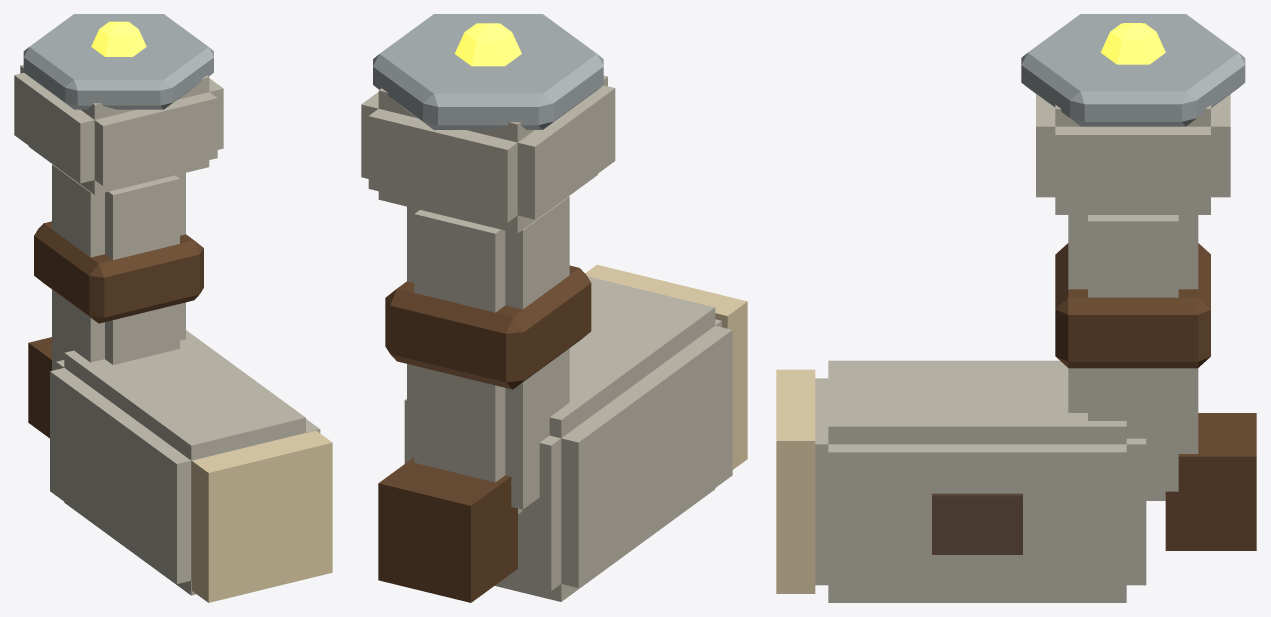
The model's file is arm_hammer.glb.
3 views of the same model, side by side, from view 1: azimuth 30°, elevation 25°; view 2: azimuth 150°, elevation 25°; view 3: azimuth 270°, elevation 25° (orthographic). The views are drawn at different scales.
Visible parts, largest first — view 1: arm_hammer; view 2: arm_hammer; view 3: arm_hammer.
Boxes of the visible parts, bbox=[...] form: arm_hammer: bbox=[14, 14, 332, 602]; arm_hammer: bbox=[361, 14, 747, 602]; arm_hammer: bbox=[776, 14, 1256, 602].
Bounding box in the file's own units: 0.3159 × 0.9304 × 0.74.
1 material, 1 textured.
